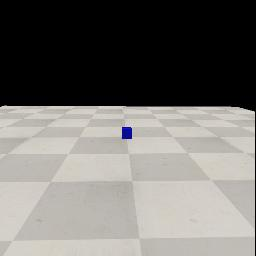box: (122, 127, 132, 139)
